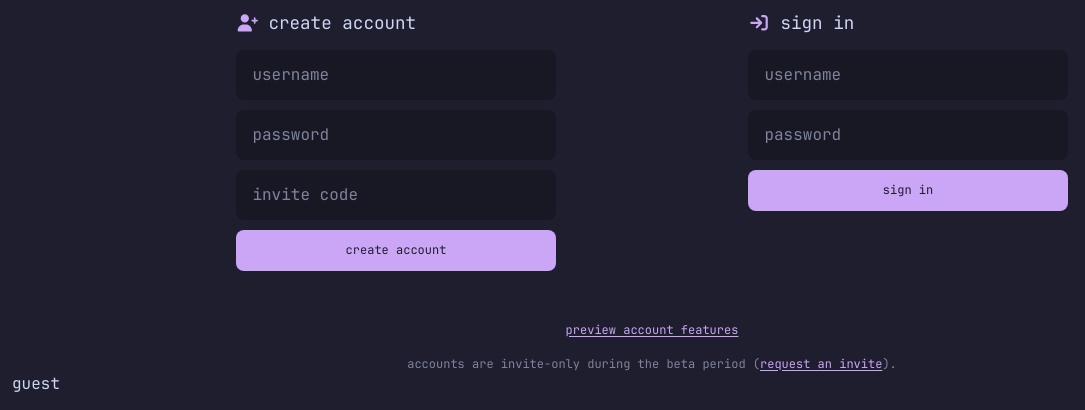
Test: account access › shows API validation errors only in the submitting form
Expected: the button "sign in" is enabled, [748, 170, 1068, 211]
Type "speedcuber" into the 2nd field labelled "username" at (908,75), box [748, 50, 1068, 100]
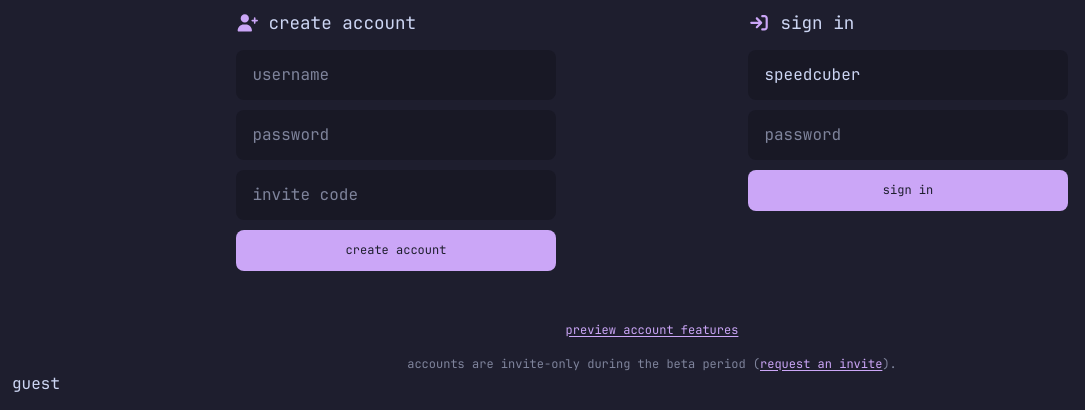
Type "test-password" into the 2nd password field labelled "password" at (908,135), box [748, 110, 1068, 160]
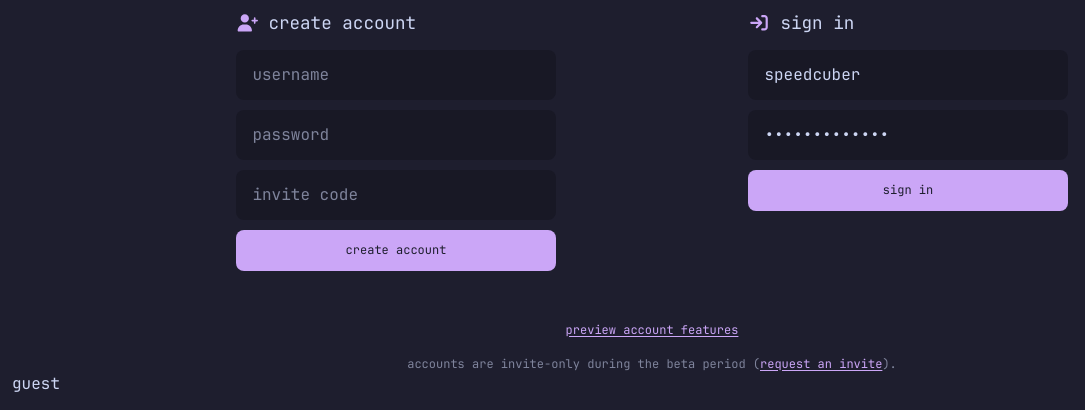
Click the button "sign in" at (908,190), box [748, 170, 1068, 211]
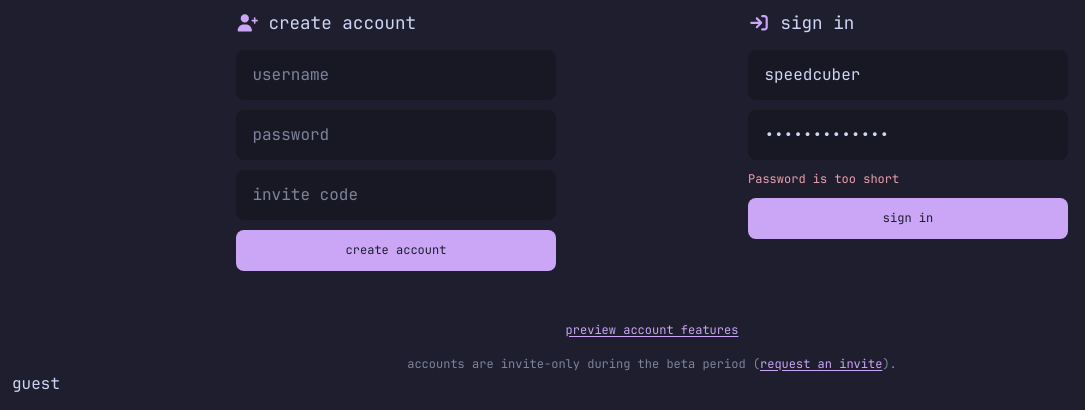
Expected: the button "sign in" is enabled, [748, 198, 1068, 239]
Now the message reads "Password is too short", box [748, 171, 899, 187]
